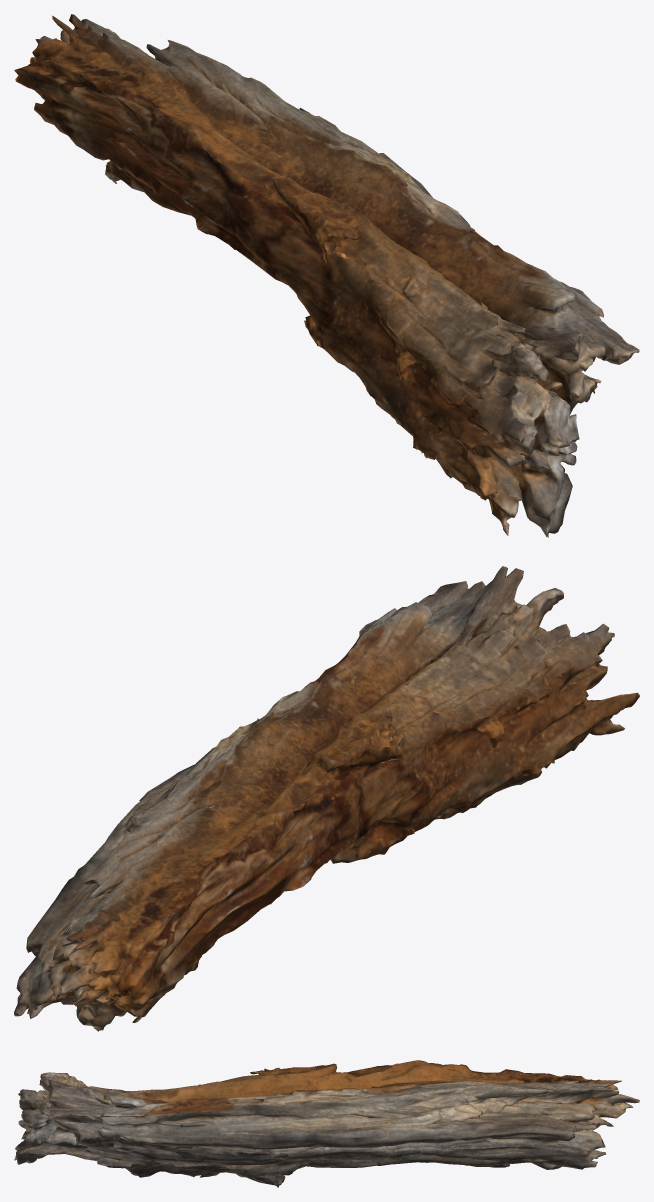
File: bark_debris_01_d.glb
The picture shows the model from 3 angles, top to bottom: view 1: azimuth 30°, elevation 25°; view 2: azimuth 150°, elevation 25°; view 3: azimuth 270°, elevation 25°; orthographic projection. The views are drawn at different scales.
Visible parts, largest first — view 1: bark_debris_01_d; view 2: bark_debris_01_d; view 3: bark_debris_01_d.
Boxes of the visible parts, box(x1,y1,x2,y2) form: bark_debris_01_d: box(14, 14, 639, 537); bark_debris_01_d: box(14, 566, 639, 1031); bark_debris_01_d: box(14, 1060, 639, 1187).
Bounding box in the file's own units: 0.1377 × 0.1092 × 0.6056.
Materials: 1 (1 with a texture image).
